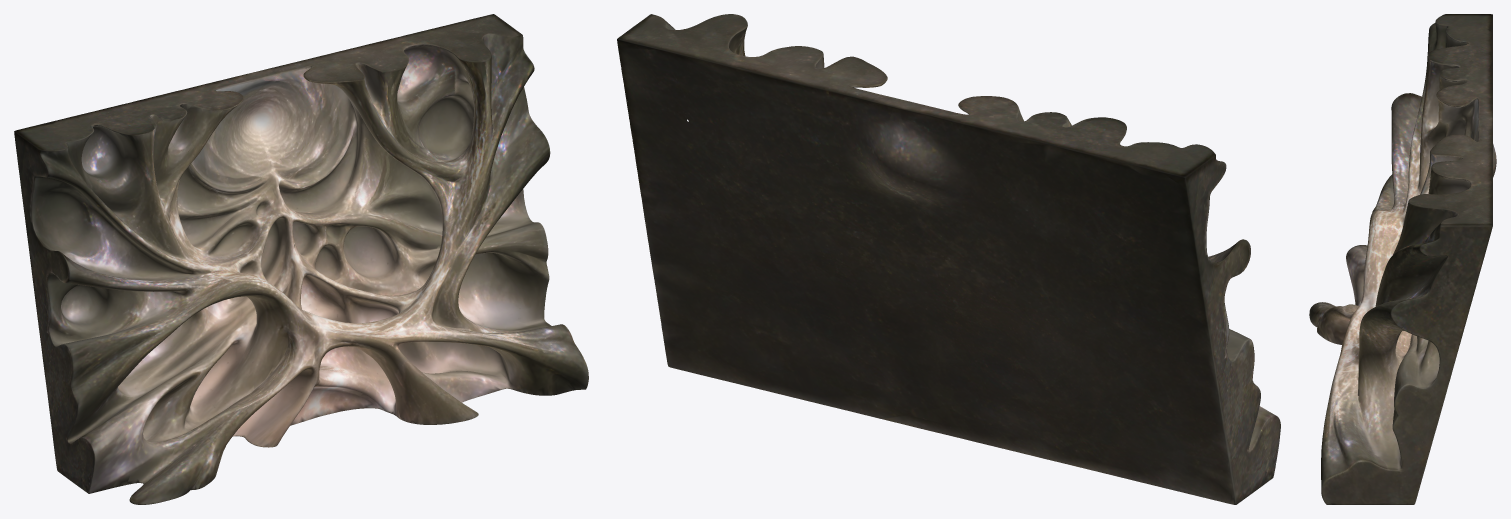
File: ascent.glb
3 views of the same model, side by side, from view 1: azimuth 30°, elevation 25°; view 2: azimuth 150°, elevation 25°; view 3: azimuth 270°, elevation 25° (orthographic). The views are drawn at different scales.
Visible parts, largest first — view 1: tripo_node_8eac634e-dc0e-4d2f-a634-387214fa678f; view 2: tripo_node_8eac634e-dc0e-4d2f-a634-387214fa678f; view 3: tripo_node_8eac634e-dc0e-4d2f-a634-387214fa678f.
Part boxes in pixels (x1,y1,x2,y2): tripo_node_8eac634e-dc0e-4d2f-a634-387214fa678f: (14,14,588,504); tripo_node_8eac634e-dc0e-4d2f-a634-387214fa678f: (617,14,1280,504); tripo_node_8eac634e-dc0e-4d2f-a634-387214fa678f: (1309,14,1496,504).
Bounding box in the file's own units: 0.9794 × 0.6033 × 0.3651.
Materials: 1 (1 with a texture image).
